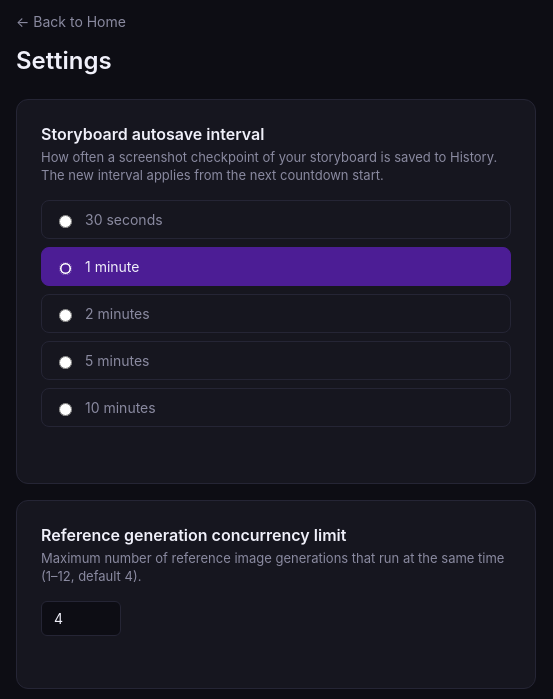
SettingsPage — saving a preset (AC-09) › PUTs the picked preset and confirms the change
The image size is (553, 699).
Expected: the radio button labelled "1 minute" is shown, left=59, top=262, right=72, bottom=274
Click the radio button labelled "5 minutes" at (66,362), box left=59, top=356, right=72, bottom=368
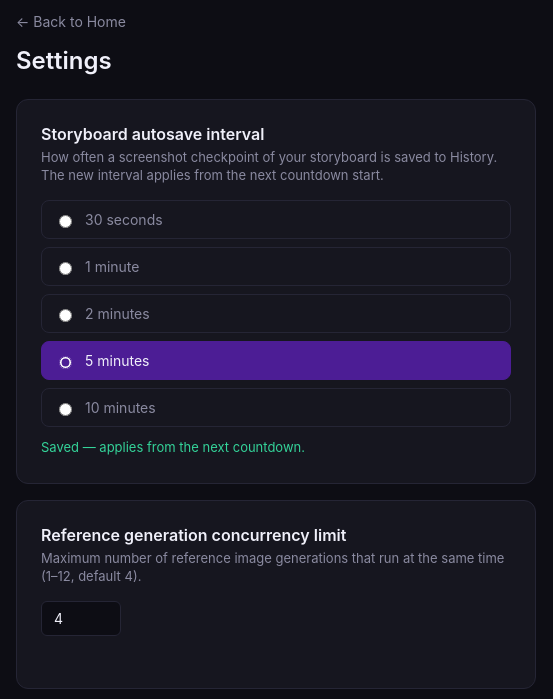
Now the radio button labelled "5 minutes" is checked, box left=59, top=356, right=72, bottom=368
Now the text "Saved — applies from the next countdown." is shown, box left=41, top=439, right=305, bottom=455
